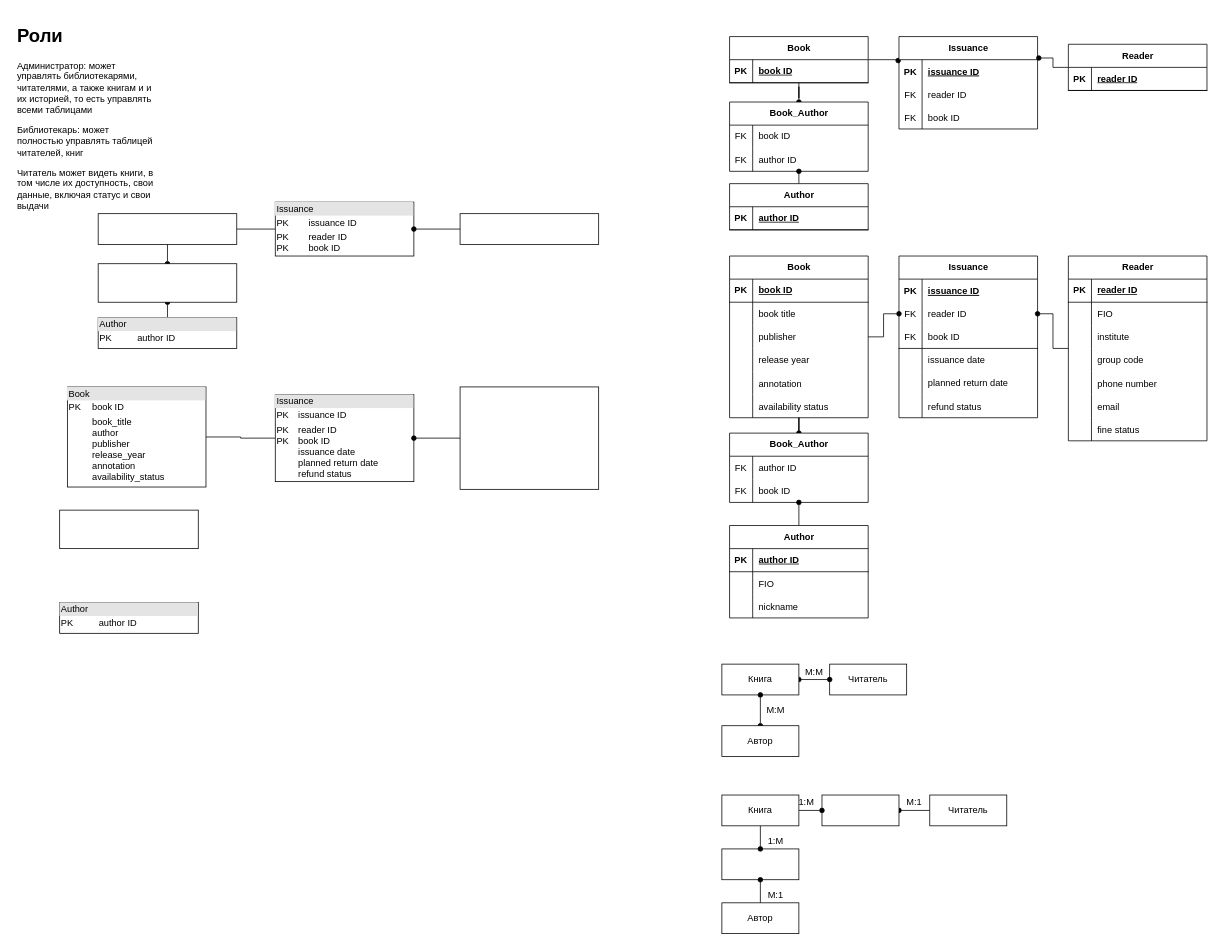
Some shapes in this 1220 by 947 pixel diagram are drawn without their labels. The centre of each missing label's shape, as x and y in pixels:
"Author PK PK author ID book ID" belongs at pixel 128 529.
"Book PK book ID" belongs at pixel 167 228.
"Book_Author author ID book ID" belongs at pixel 167 282.
"Reader PK reader ID" belongs at pixel 529 228.
"Reader PK reader ID FIO Institute group_code phone_number email fine_status" belongs at pixel 529 437.
"Выдача" belongs at pixel 860 810.
"Книга_Автор" belongs at pixel 760 864.
